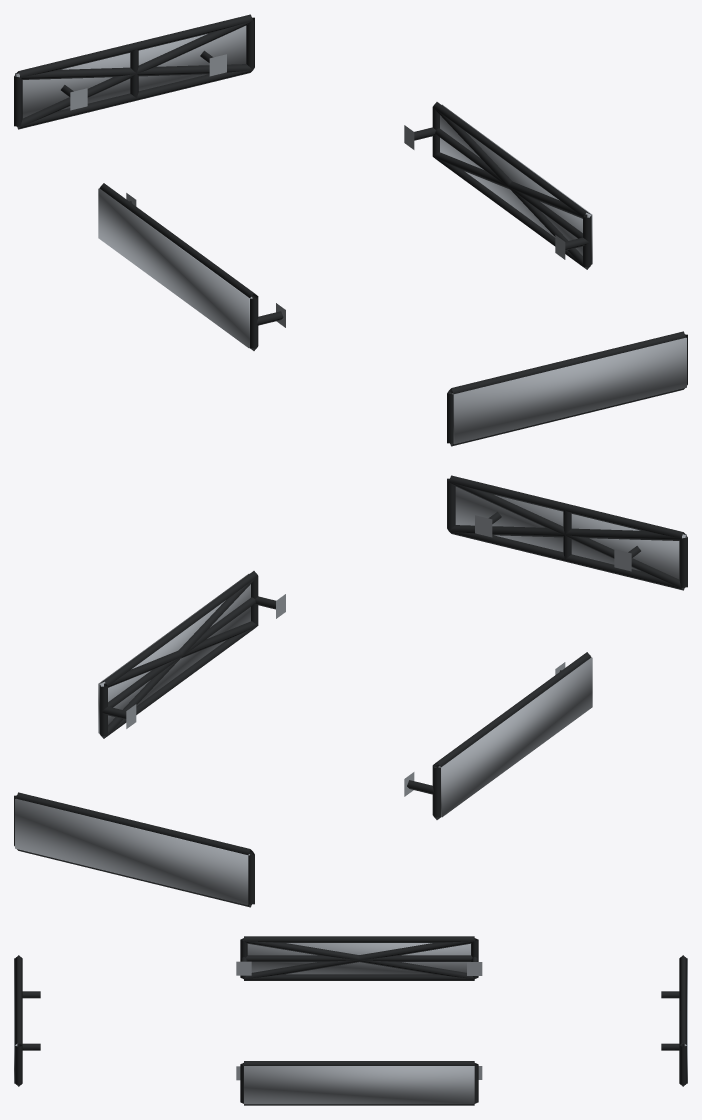
Rendered from keldorf_dardo_protecao.glb.
3 views of the same model, one above another, from view 1: azimuth 30°, elevation 25°; view 2: azimuth 150°, elevation 25°; view 3: azimuth 270°, elevation 25° (orthographic). The views are drawn at different scales.
Visible parts, largest first — view 1: Protection_front_Level3_Details, Protection_left_Level3_Details, Protection_rear_Level1_Details, Protection_rear_Level3_Details, Protection_right_Level1_Details, Protection_rear_Level2_Details, Protection_right_Level2_Details, Protection_right_Level3_Details, Protection_front_Level1_Details, Protection_left_Level1_Details; view 2: Protection_rear_Level3_Details, Protection_left_Level3_Details, Protection_front_Level1_Details, Protection_front_Level3_Details, Protection_right_Level1_Details, Protection_front_Level2_Details, Protection_right_Level2_Details, Protection_right_Level3_Details, Protection_rear_Level1_Details, Protection_left_Level1_Details; view 3: Protection_right_Level3_Details, Protection_left_Level2_Details, Protection_left_Level1_Details, Protection_left_Level3_Details, Protection_right_Level1_Details, Protection_rear_Level1_Details, Protection_front_Level1_Details.
Boxes of the visible parts, box(x1,y1,x2,y2) form: Protection_front_Level3_Details: box(452, 337, 686, 444); Protection_left_Level3_Details: box(98, 188, 252, 347); Protection_rear_Level1_Details: box(14, 14, 254, 129); Protection_rear_Level3_Details: box(15, 26, 246, 118); Protection_right_Level1_Details: box(404, 102, 591, 269); Protection_rear_Level2_Details: box(16, 21, 252, 128); Protection_right_Level2_Details: box(433, 107, 590, 269); Protection_right_Level3_Details: box(440, 104, 592, 264); Protection_front_Level1_Details: box(447, 331, 687, 446); Protection_left_Level1_Details: box(99, 183, 285, 350); Protection_rear_Level3_Details: box(15, 798, 249, 905); Protection_left_Level3_Details: box(438, 657, 592, 817); Protection_front_Level1_Details: box(447, 475, 687, 590); Protection_front_Level3_Details: box(455, 487, 686, 579); Protection_right_Level1_Details: box(99, 571, 285, 738); Protection_front_Level2_Details: box(449, 482, 685, 589); Protection_right_Level2_Details: box(100, 577, 257, 738); Protection_right_Level3_Details: box(98, 574, 250, 733); Protection_rear_Level1_Details: box(14, 792, 254, 907); Protection_left_Level1_Details: box(404, 652, 591, 819); Protection_right_Level3_Details: box(244, 1066, 474, 1104); Protection_left_Level2_Details: box(243, 938, 474, 979); Protection_left_Level1_Details: box(236, 936, 482, 980); Protection_left_Level3_Details: box(247, 943, 470, 974); Protection_right_Level1_Details: box(236, 1061, 482, 1105); Protection_rear_Level1_Details: box(661, 955, 686, 1086); Protection_front_Level1_Details: box(15, 955, 40, 1086).
Size of the model in its own units: 2.18 by 0.354 by 4.82.
Materials: 1 (1 with a texture image).
